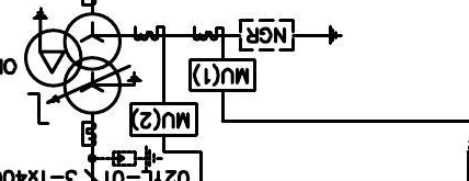11522_tx_ynyn0d1: (23, 11, 123, 116)
MU: (129, 101, 198, 138), (188, 58, 257, 93)
NGR_future: (238, 18, 344, 53)
